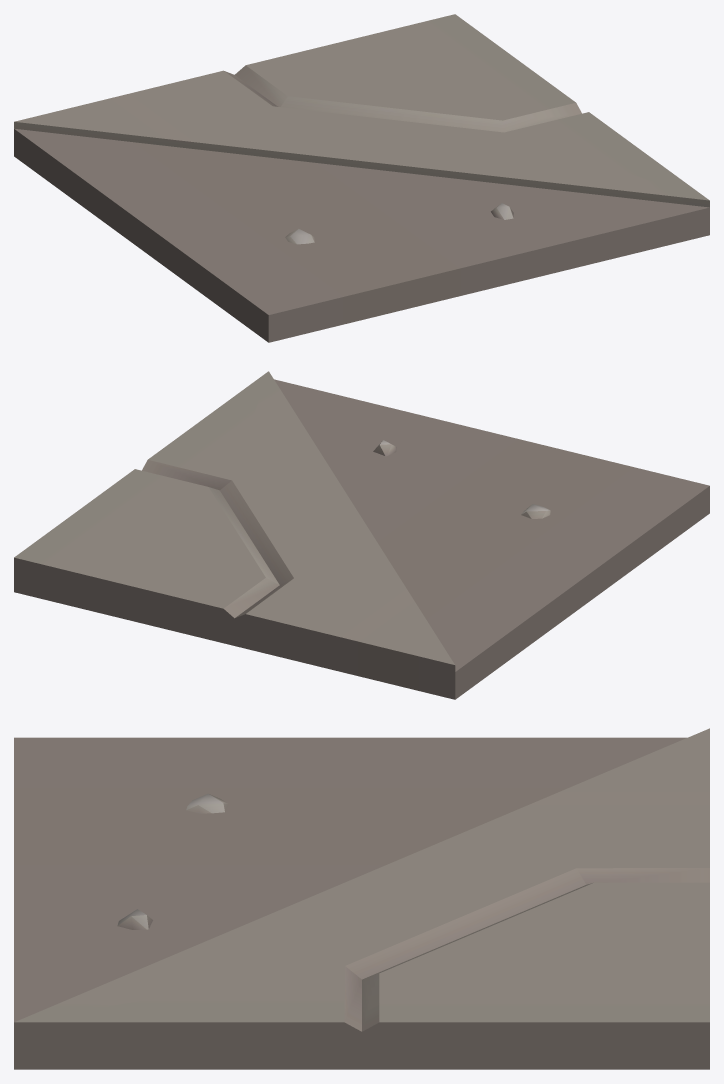
File: floor-dirt-small-corner-gltf.glb
The picture shows the model from 3 angles, top to bottom: view 1: azimuth 30°, elevation 25°; view 2: azimuth 150°, elevation 25°; view 3: azimuth 270°, elevation 25°; orthographic projection. The views are drawn at different scales.
Visible parts, largest first — view 1: floor_dirt_small_corner; view 2: floor_dirt_small_corner; view 3: floor_dirt_small_corner.
Part boxes in pixels (x1,y1,x2,y2): floor_dirt_small_corner: [14, 14, 709, 342]; floor_dirt_small_corner: [14, 371, 709, 699]; floor_dirt_small_corner: [14, 728, 709, 1069].
Size of the model in its own units: 2 by 0.1538 by 2.
Materials: 1 (1 with a texture image).
